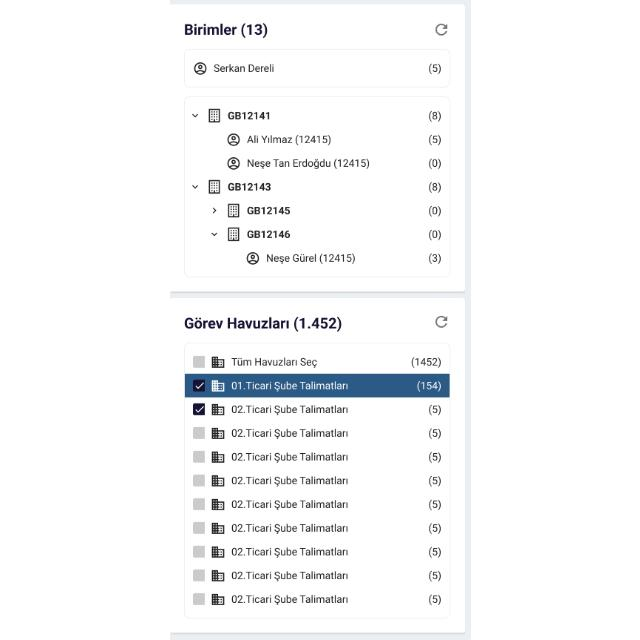QLabel: (180, 315, 342, 333), (182, 19, 268, 41), (246, 158, 368, 170), (229, 474, 349, 486), (228, 522, 348, 534), (230, 404, 348, 416), (230, 545, 348, 557), (230, 569, 348, 581), (230, 593, 348, 605), (226, 381, 348, 392), (228, 498, 348, 509), (228, 452, 348, 462), (230, 428, 348, 438), (247, 134, 331, 146), (265, 253, 355, 264), (229, 358, 319, 368), (212, 63, 274, 73), (226, 110, 270, 120), (227, 182, 270, 192), (411, 356, 441, 368), (246, 206, 290, 214), (246, 230, 290, 238), (415, 380, 441, 392), (427, 62, 441, 76), (428, 158, 440, 170), (428, 404, 440, 416), (428, 229, 440, 241), (428, 475, 440, 487), (428, 451, 440, 463), (428, 546, 440, 558), (428, 594, 440, 606), (428, 523, 440, 535), (428, 134, 439, 146), (428, 110, 439, 122), (428, 253, 439, 265), (428, 428, 439, 440), (428, 205, 439, 217), (428, 499, 439, 511), (428, 570, 439, 582), (428, 182, 439, 192)
VCard: (170, 296, 466, 632), (169, 2, 465, 292), (182, 342, 452, 620), (181, 94, 451, 280), (182, 48, 450, 88)
VCheckbox: (192, 544, 204, 558), (192, 378, 204, 392), (192, 356, 204, 368), (192, 427, 204, 439), (192, 451, 204, 463), (192, 498, 204, 510), (192, 569, 204, 581), (192, 593, 204, 605), (192, 474, 204, 486), (192, 522, 204, 534), (192, 403, 204, 415)
VIcon: (434, 20, 448, 38), (434, 315, 448, 329), (225, 204, 239, 218), (206, 180, 220, 194), (226, 226, 238, 242), (192, 62, 205, 76), (207, 108, 220, 122), (210, 356, 224, 368), (227, 156, 239, 170), (210, 380, 224, 392), (210, 404, 223, 416), (210, 546, 223, 558), (227, 134, 239, 146), (246, 252, 258, 264), (211, 499, 223, 511), (211, 522, 223, 534), (211, 570, 223, 582), (210, 428, 223, 438), (211, 452, 223, 462), (211, 476, 223, 486), (211, 594, 223, 604), (189, 112, 199, 118), (189, 183, 199, 189), (210, 206, 216, 214), (210, 232, 217, 236)
